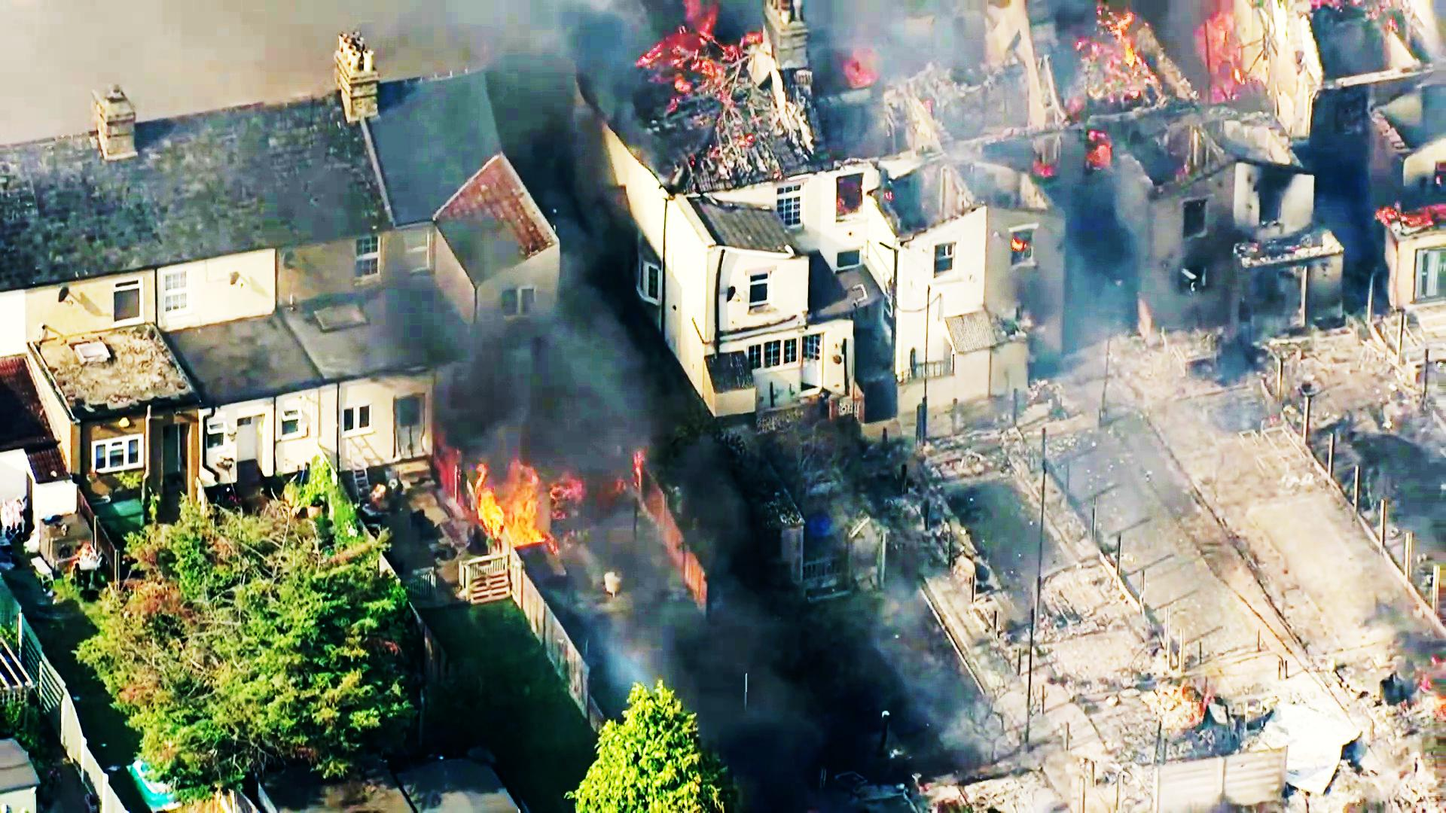fire: (1049, 1, 1312, 117), (433, 448, 543, 548), (657, 13, 769, 111)
